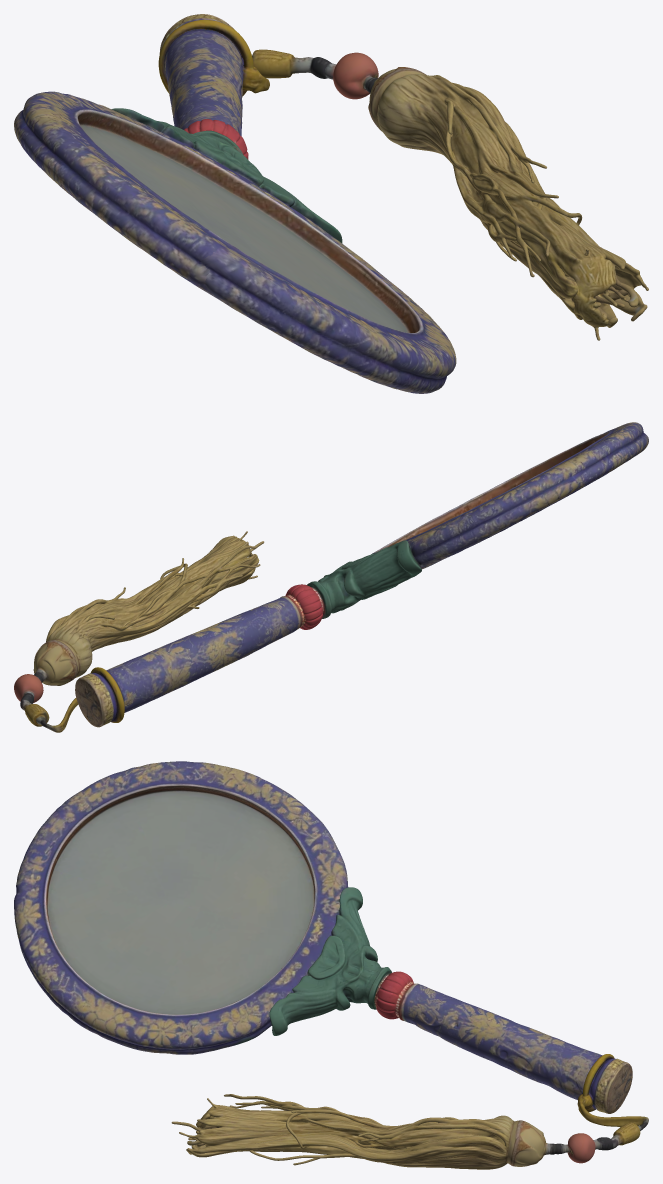
File: dpm-xizi-enamel-handmirror.glb
The picture shows the model from 3 angles, top to bottom: view 1: azimuth 30°, elevation 25°; view 2: azimuth 150°, elevation 25°; view 3: azimuth 270°, elevation 25°; orthographic projection. The views are drawn at different scales.
Size of the model in its own units: 0.7788 by 0.3787 by 1.
1 material, 1 textured.
